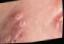plaque psoriasis: (0, 9, 31, 44), (53, 13, 63, 38), (55, 0, 63, 12)
